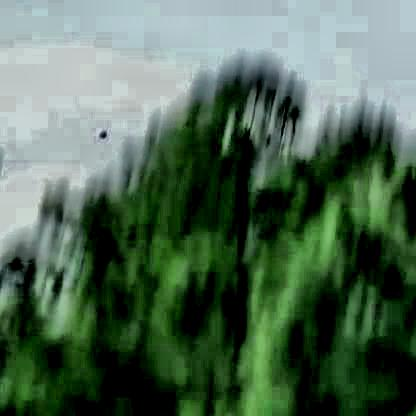golfball: (93, 127, 104, 137)
